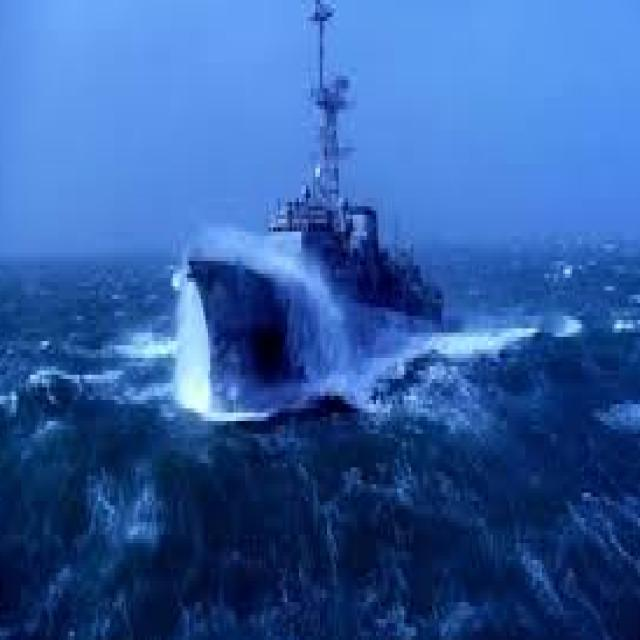navalvessels: (184, 2, 451, 392)
